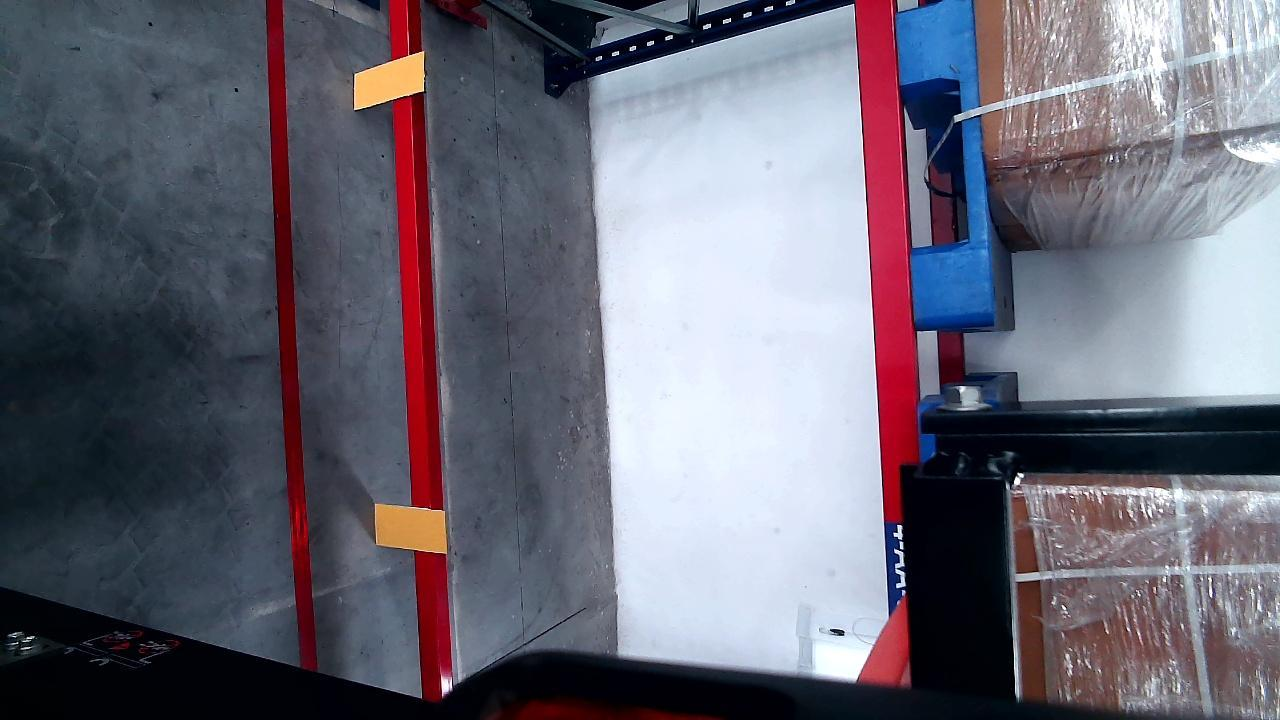red_line: (260, 0, 315, 673)
